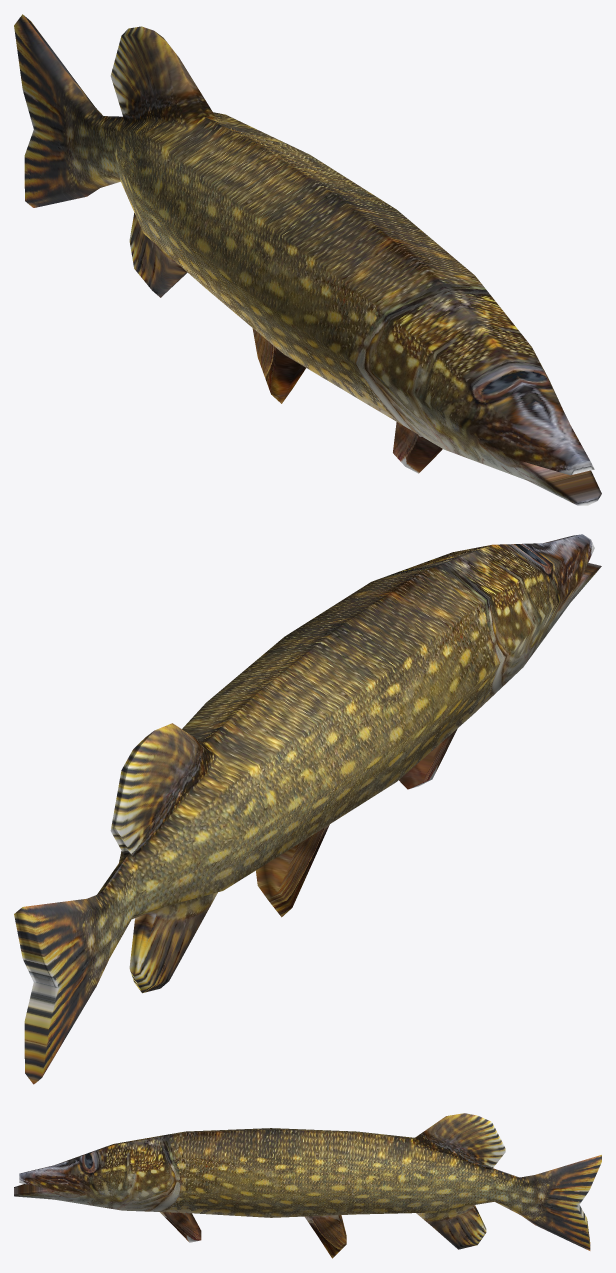
The model's file is SM_pike.fbx.
3 views of the same model, one above another, from view 1: azimuth 30°, elevation 25°; view 2: azimuth 150°, elevation 25°; view 3: azimuth 270°, elevation 25° (orthographic). The views are drawn at different scales.
Parts seen in each view (by area): view 1: pSphere3; view 2: pSphere3; view 3: pSphere3.
Boxes of the visible parts, x1,y1,x2,y2 form: pSphere3: (14,14,601,505); pSphere3: (14,534,601,1084); pSphere3: (14,1113,601,1258).
Bounding box in the file's own units: 2 × 3.37 × 12.31.
1 material, 1 textured.
